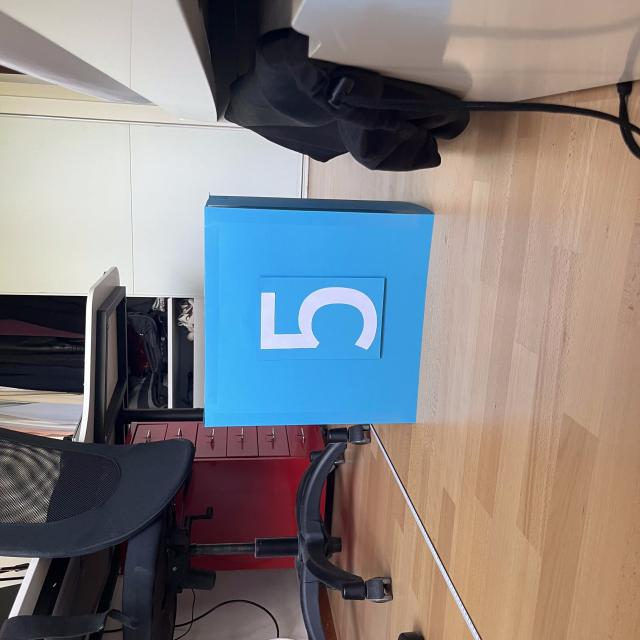box: (198, 190, 437, 428)
